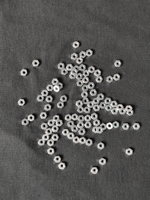nut: (91, 168, 99, 175), (58, 163, 66, 170), (100, 158, 107, 166), (126, 148, 133, 156), (62, 129, 70, 136), (38, 139, 46, 146), (41, 123, 49, 130), (53, 115, 60, 123), (77, 122, 85, 129), (76, 101, 84, 108), (82, 85, 90, 92), (37, 95, 45, 102), (54, 85, 61, 93), (32, 60, 40, 67), (66, 64, 74, 71), (80, 51, 87, 59), (73, 41, 80, 49), (98, 143, 105, 150), (48, 148, 55, 155), (80, 138, 87, 145), (68, 133, 75, 140), (47, 140, 54, 147), (43, 134, 50, 141), (46, 129, 53, 136), (52, 126, 59, 133), (48, 120, 55, 127), (56, 120, 63, 127), (113, 122, 120, 129), (107, 123, 114, 130), (97, 127, 104, 134), (93, 127, 100, 134), (79, 129, 86, 136), (72, 126, 79, 133), (68, 121, 75, 128), (85, 122, 92, 129), (94, 120, 101, 127), (91, 113, 98, 120), (85, 115, 92, 122), (72, 114, 79, 121), (65, 115, 72, 122), (28, 115, 35, 122), (22, 119, 29, 126), (112, 108, 119, 115), (106, 105, 113, 112), (111, 101, 118, 108), (105, 98, 112, 105), (94, 105, 101, 112), (93, 98, 100, 105), (98, 94, 105, 101), (45, 104, 52, 111), (46, 96, 53, 103), (42, 90, 49, 97), (47, 85, 54, 92), (77, 80, 84, 87), (21, 69, 28, 76), (107, 76, 114, 83), (114, 74, 121, 81), (115, 61, 122, 68), (95, 70, 102, 77), (89, 67, 96, 74), (76, 73, 83, 80), (83, 70, 90, 77), (71, 69, 78, 76), (73, 66, 80, 73), (58, 63, 65, 70), (54, 157, 62, 163), (87, 139, 93, 147), (133, 124, 141, 130), (18, 100, 26, 106), (74, 137, 80, 144), (52, 135, 59, 141), (123, 124, 130, 130), (101, 124, 107, 131), (78, 116, 85, 122), (40, 113, 47, 119), (127, 110, 134, 116), (126, 106, 133, 112), (120, 109, 127, 115), (117, 105, 124, 111), (100, 103, 107, 109), (85, 107, 91, 114), (78, 107, 84, 114), (88, 102, 95, 108), (83, 98, 90, 104), (82, 92, 89, 98), (90, 90, 97, 96), (88, 83, 95, 89), (58, 102, 64, 109), (61, 96, 68, 102), (52, 79, 59, 85), (96, 77, 103, 83), (83, 77, 89, 84), (80, 65, 86, 72), (70, 73, 77, 79), (62, 69, 68, 76), (77, 58, 84, 64), (72, 53, 78, 60), (87, 50, 93, 57), (57, 83, 63, 89)
